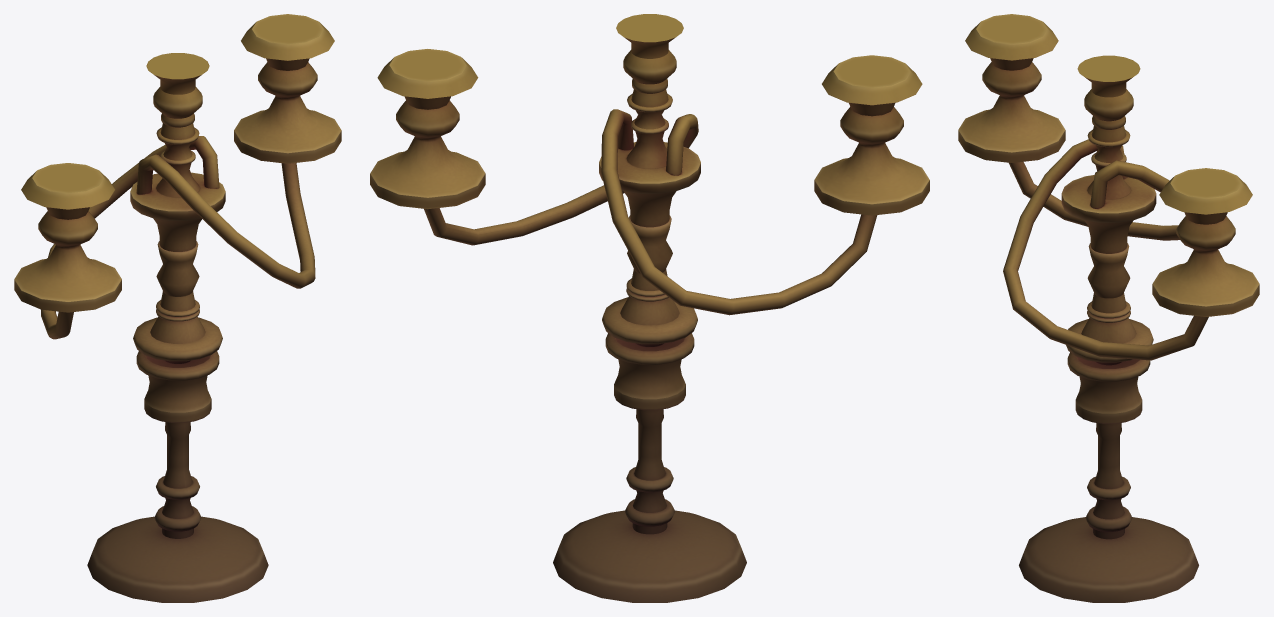
The model's file is Lv1_Candelabro.fbx.
The picture shows the model from 3 angles, left to right: view 1: azimuth 30°, elevation 25°; view 2: azimuth 150°, elevation 25°; view 3: azimuth 270°, elevation 25°; orthographic projection. The views are drawn at different scales.
Parts seen in each view (by area): view 1: Lv1_Candelabro.main, Lv1_Candelabro.001, Lv1_Candelabro.002; view 2: Lv1_Candelabro.main, Lv1_Candelabro.001, Lv1_Candelabro.002; view 3: Lv1_Candelabro.main, Lv1_Candelabro.001, Lv1_Candelabro.002.
Part boxes in pixels (x1,y1,x2,y2): Lv1_Candelabro.main: (87,53,268,602); Lv1_Candelabro.001: (14,14,341,312); Lv1_Candelabro.002: (41,136,315,339); Lv1_Candelabro.main: (553,14,746,602); Lv1_Candelabro.001: (370,49,929,215); Lv1_Candelabro.002: (424,109,877,315); Lv1_Candelabro.main: (1019,55,1198,602); Lv1_Candelabro.001: (958,14,1259,316); Lv1_Candelabro.002: (1003,139,1208,360).
Size of the model in its own units: 37.64 by 43.72 by 24.06.
Materials: 1 (1 with a texture image).
